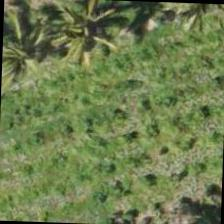Kelapa_Sawit: (39, 0, 133, 75), (0, 3, 70, 94)
